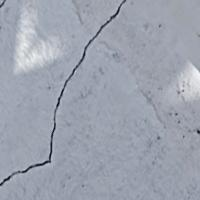crack: (0, 0, 130, 187)
